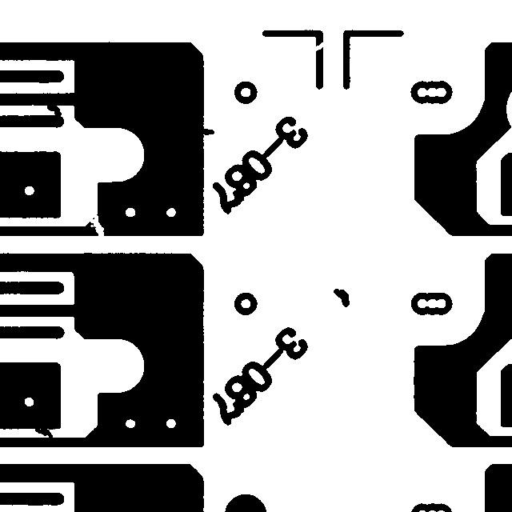copper: (326, 281, 357, 314)
open: (78, 206, 111, 247), (302, 34, 332, 61)
short: (27, 417, 61, 450), (39, 92, 69, 124)
spur: (189, 121, 222, 142)
